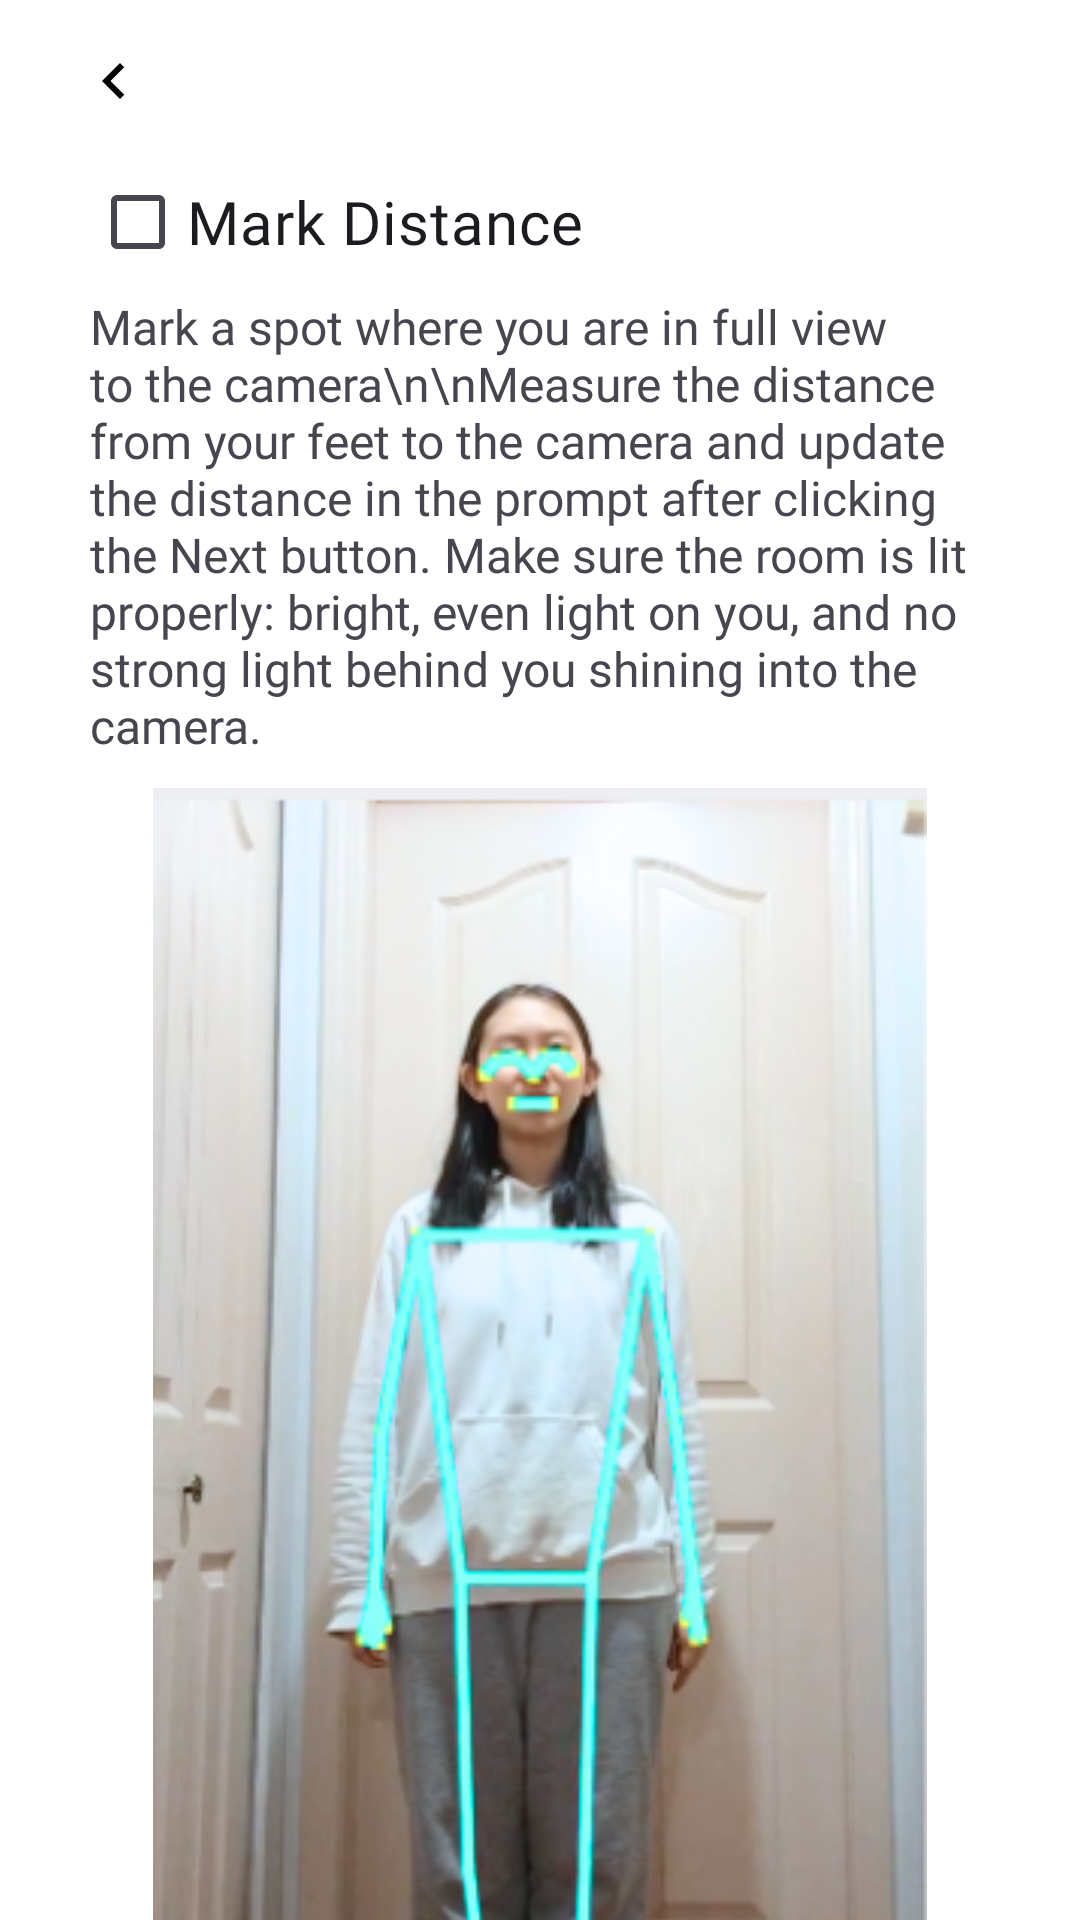

Locate icon controls on the screen. Image size 1080×1920, boxes as (x1, y1, x2, y2).
chevron left: (102, 63, 124, 99)
